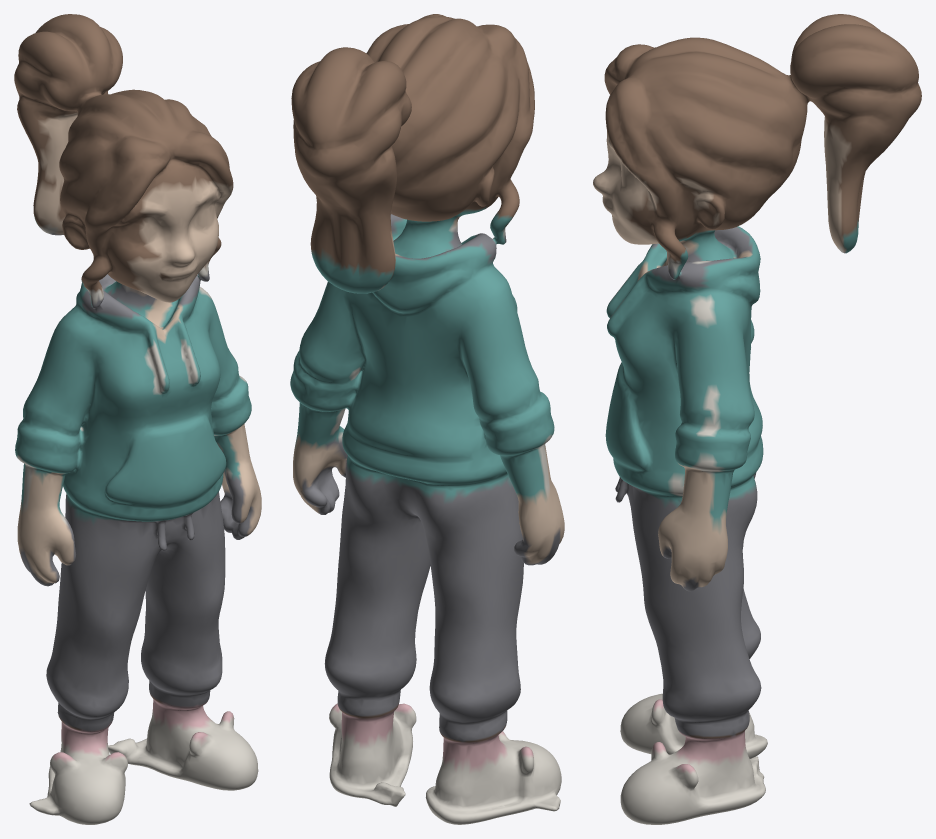
3 renders of one model, left to right at view 1: azimuth 30°, elevation 25°; view 2: azimuth 150°, elevation 25°; view 3: azimuth 270°, elevation 25°, orthographic. The views are drawn at different scales.
Visible parts, largest first — view 1: tmpxwtty5u4.ply; view 2: tmpxwtty5u4.ply; view 3: tmpxwtty5u4.ply.
Part boxes in pixels (x1=…): tmpxwtty5u4.ply: x1=14, y1=14, x2=261, y2=824; tmpxwtty5u4.ply: x1=290, y1=14, x2=564, y2=824; tmpxwtty5u4.ply: x1=593, y1=14, x2=921, y2=824.
Size of the model in its own units: 0.6846 by 2 by 0.7833.
